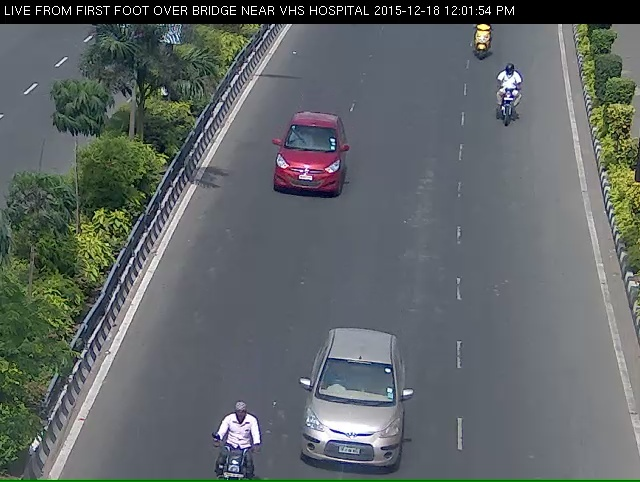Car: (287, 346, 408, 475), (263, 124, 344, 209)
Person: (496, 73, 526, 132), (465, 26, 496, 65)
